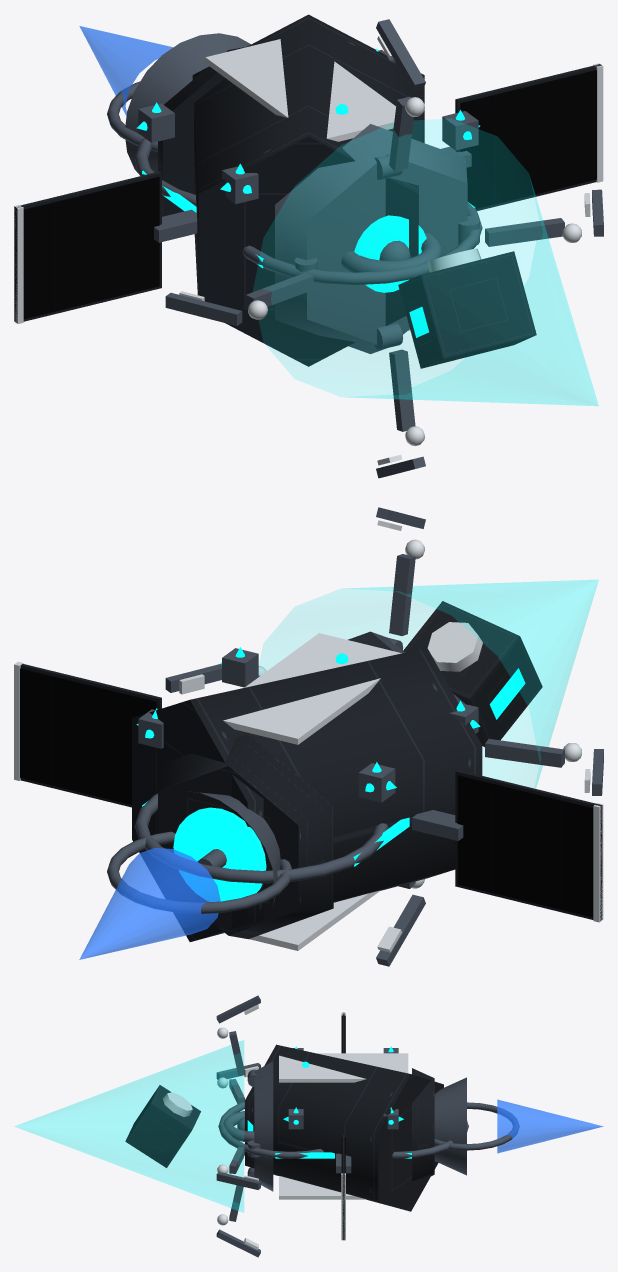
Rendered from scale-extraction-drone.glb.
3 renders of one model, top to bottom at view 1: azimuth 30°, elevation 25°; view 2: azimuth 150°, elevation 25°; view 3: azimuth 270°, elevation 25°, orthographic. The views are drawn at different scales.
Visible parts, largest first — view 1: CaptureMechanism, CentralChassis, SolarWings, MainIonThruster, object 14, RCSPods, object 7, object 5, object 15; view 2: CentralChassis, SolarWings, MainIonThruster, CaptureMechanism, object 14, RCSPods, object 15, object 9, object 16, object 3; view 3: CaptureMechanism, CentralChassis, MainIonThruster, object 14, SolarWings, RCSPods, object 15, object 3, object 5, object 9.
Part boxes in pixels (x1=…): CaptureMechanism: x1=246, y1=96, x2=598, y2=446; CentralChassis: x1=134, y1=14, x2=482, y2=366; SolarWings: x1=14, y1=63, x2=603, y2=323; MainIonThruster: x1=79, y1=26, x2=250, y2=216; object 14: x1=398, y1=251, x2=536, y2=368; RCSPods: x1=136, y1=48, x2=480, y2=204; object 7: x1=165, y1=292, x2=242, y2=325; object 5: x1=376, y1=19, x2=425, y2=90; object 15: x1=428, y1=248, x2=481, y2=272; CentralChassis: x1=132, y1=633, x2=482, y2=950; SolarWings: x1=14, y1=661, x2=603, y2=922; MainIonThruster: x1=79, y1=733, x2=333, y2=959; CaptureMechanism: x1=258, y1=539, x2=598, y2=888; object 14: x1=403, y1=601, x2=542, y2=746; RCSPods: x1=136, y1=647, x2=480, y2=802; object 15: x1=427, y1=622, x2=482, y2=671; object 9: x1=376, y1=894, x2=425, y2=966; object 16: x1=489, y1=668, x2=525, y2=719; object 3: x1=165, y1=664, x2=221, y2=692; CaptureMechanism: x1=15, y1=1027, x2=273, y2=1225; CentralChassis: x1=218, y1=1044, x2=468, y2=1211; MainIonThruster: x1=412, y1=1068, x2=603, y2=1180; object 14: x1=125, y1=1085, x2=200, y2=1167; SolarWings: x1=336, y1=1012, x2=351, y2=1240; RCSPods: x1=283, y1=1046, x2=403, y2=1129; object 15: x1=163, y1=1092, x2=192, y2=1116; object 3: x1=216, y1=1172, x2=260, y2=1189; object 5: x1=216, y1=995, x2=260, y2=1023; object 9: x1=216, y1=1229, x2=260, y2=1257.
Bounding box in the file's own units: 2.02 × 1.51 × 3.11.
Materials: 7 (2 with a texture image).
